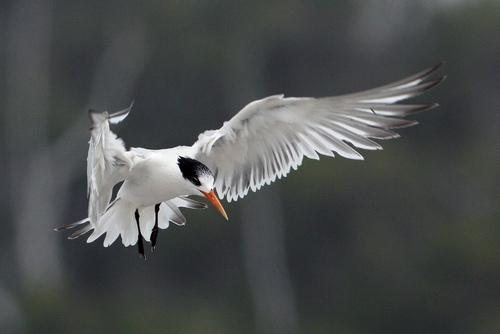bird: (60, 60, 446, 255)
